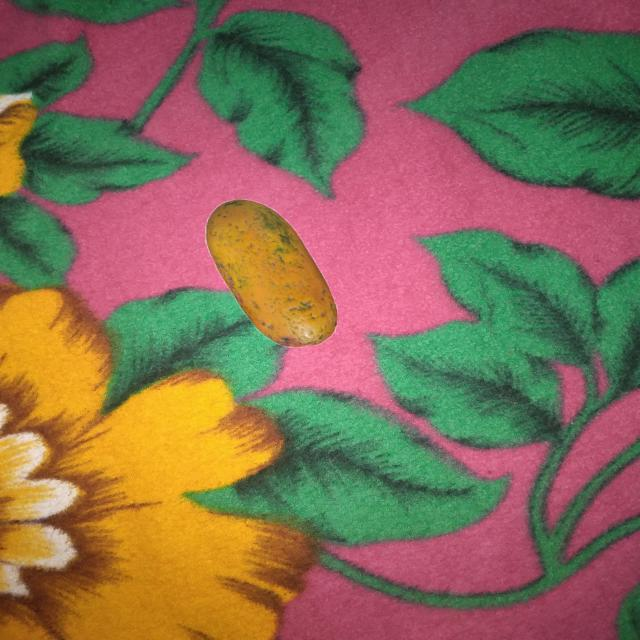Pepaya rippen: (204, 190, 343, 354)
